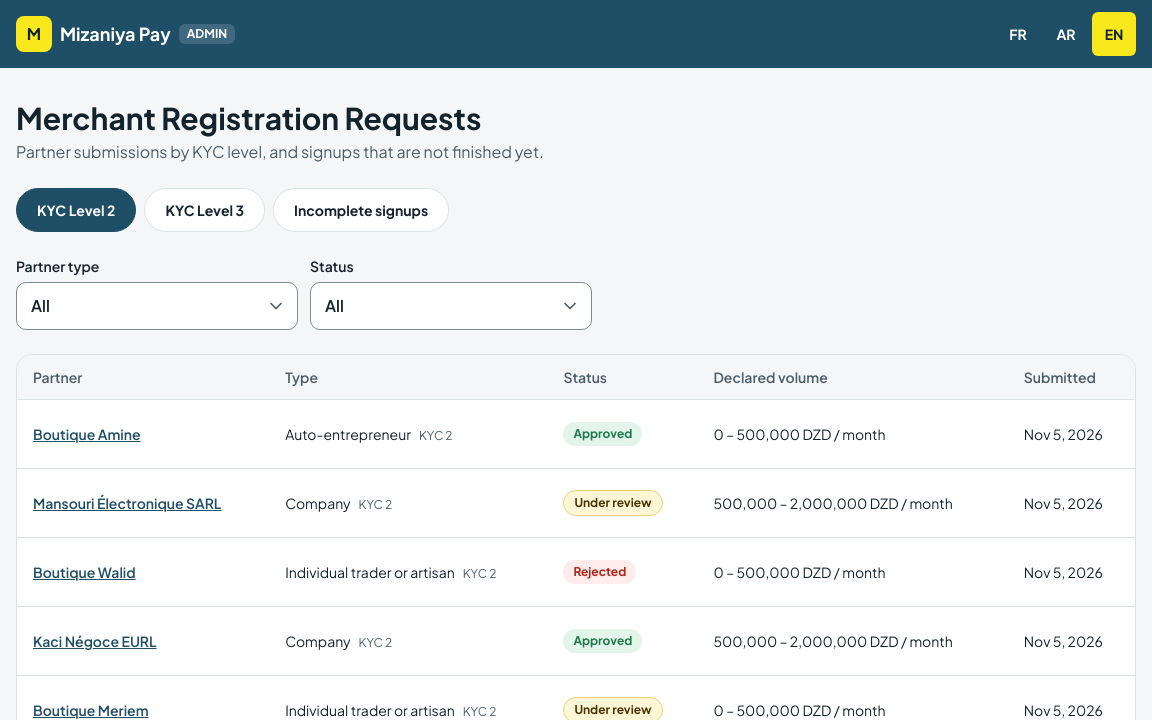
Test: admin – submissions list › Level 2 tab lists AE/trader/company submissions with a type filter; Level 3 lists Enterprise
expect the heading "Merchant Registration Requests" is shown: met, box [16,99,481,137]
partner type filter
Select "Company" in the dropdown labelled "Partner type" at (157, 306), box [16,282,298,330]
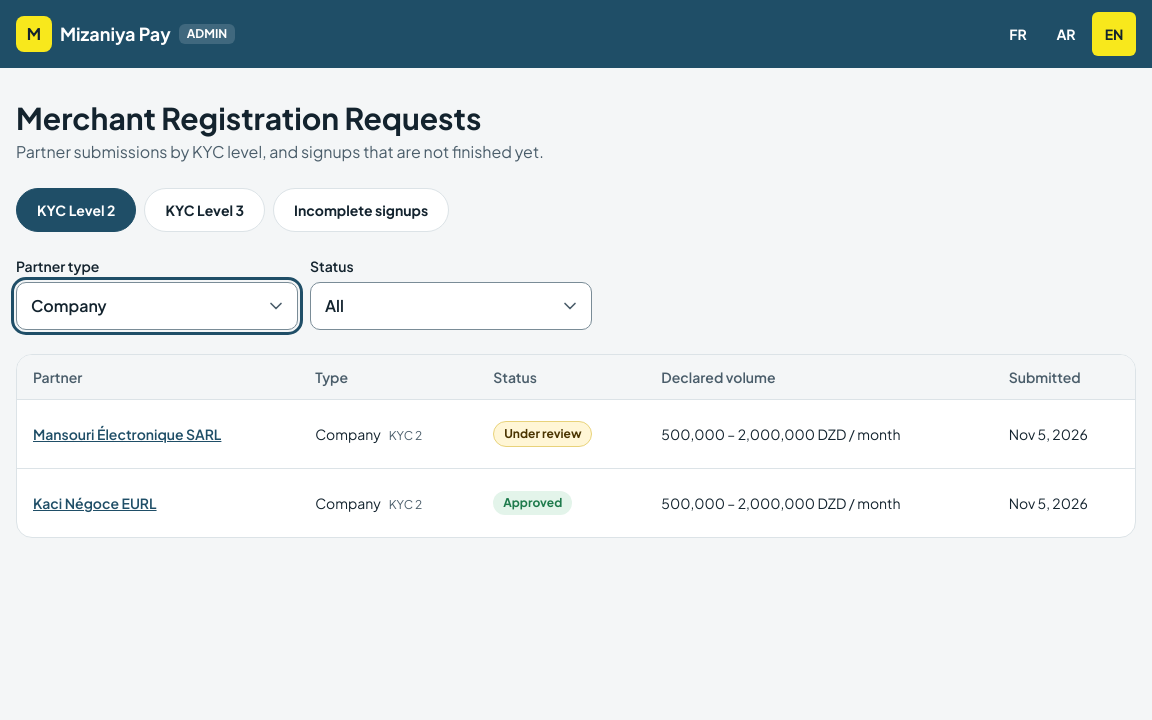
expect the row with test id "submission-row" shows "Company": met, box [315,425,381,443]
expect the row with test id "submission-row" that starts with "Mansouri Électronique SARL" is shown: met, box [17,400,1135,468]
Click the tab "KYC Level 3" at (205, 210), box [144,188,265,232]
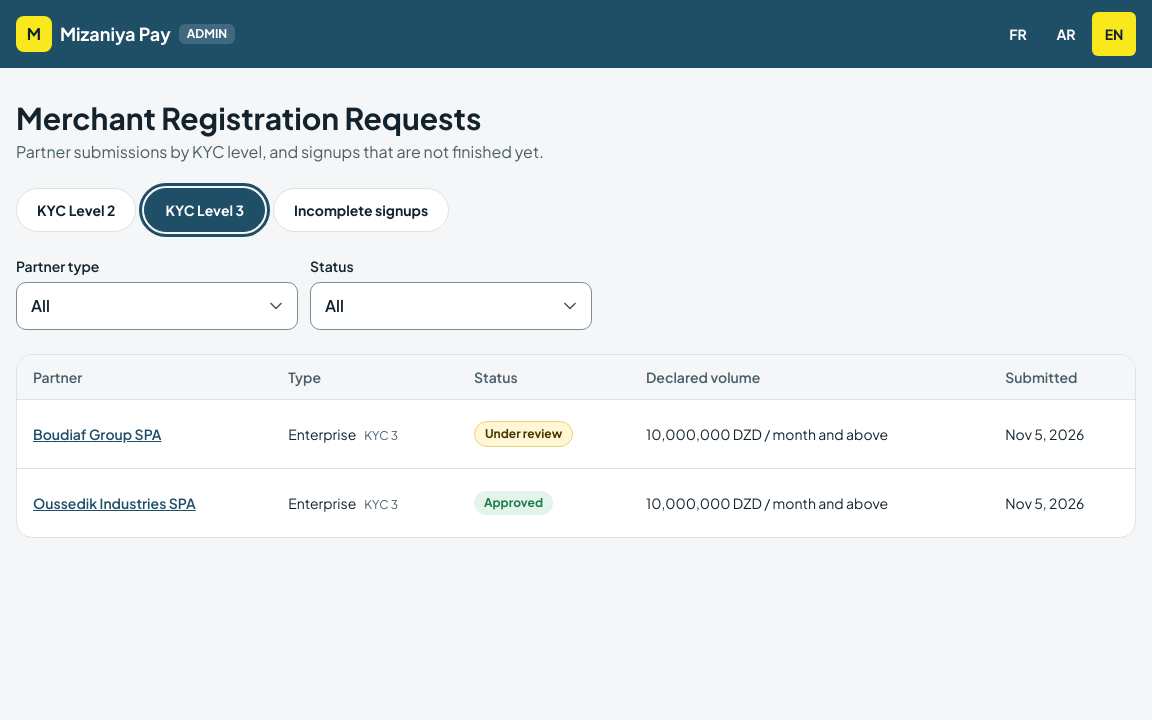
expect the row with test id "submission-row" shows "Enterprise": met, box [288,425,356,443]
expect the text "Company" is gone: met
